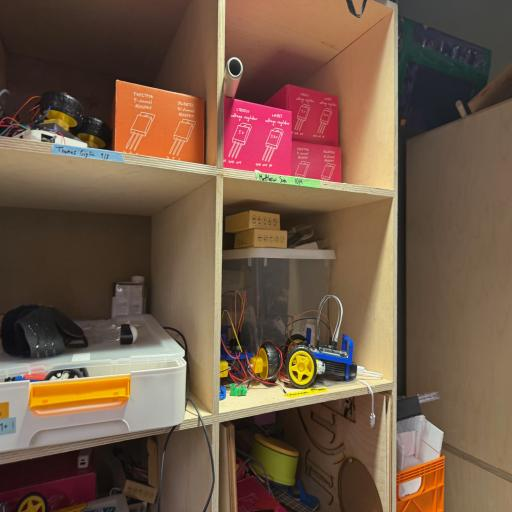Lego-Dude: (230, 383, 247, 397)
